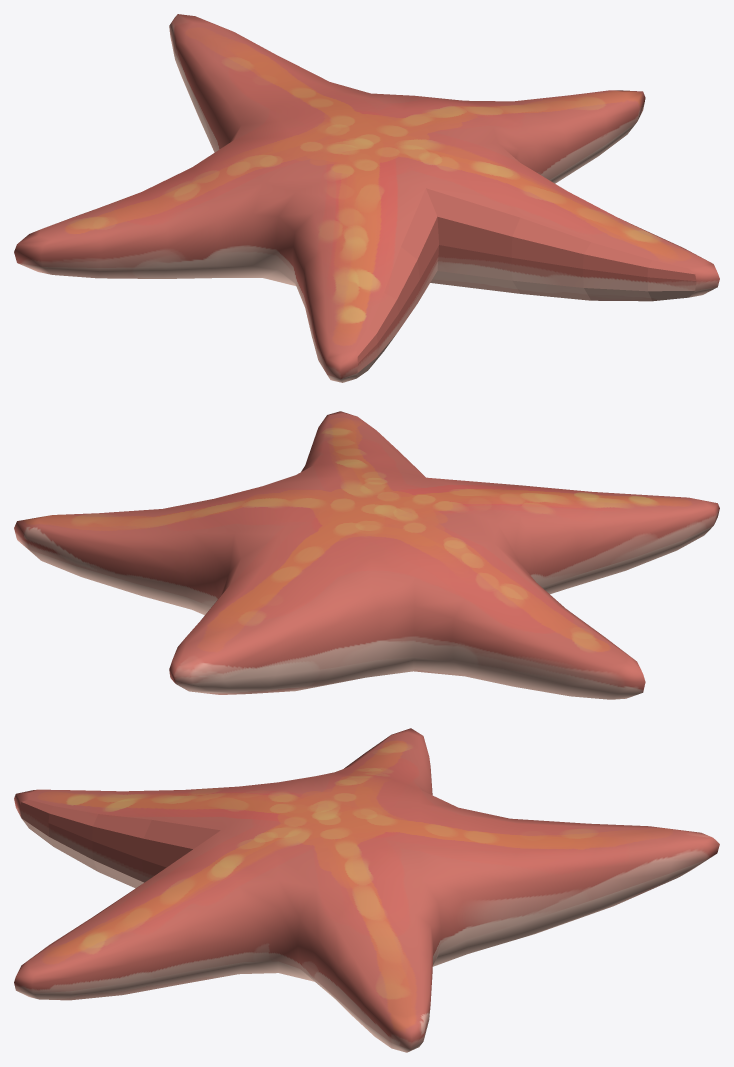
File: Star02.fbx
The picture shows the model from 3 angles, top to bottom: view 1: azimuth 30°, elevation 25°; view 2: azimuth 150°, elevation 25°; view 3: azimuth 270°, elevation 25°; orthographic projection.
Visible parts, largest first — view 1: Star02; view 2: Star02; view 3: Star02.
Part boxes in pixels (bbox=[...]): Star02: bbox=[14, 14, 719, 382]; Star02: bbox=[14, 411, 719, 699]; Star02: bbox=[14, 728, 719, 1052].
Bounding box in the file's own units: 994 × 170 × 970.
1 material, 1 textured.
